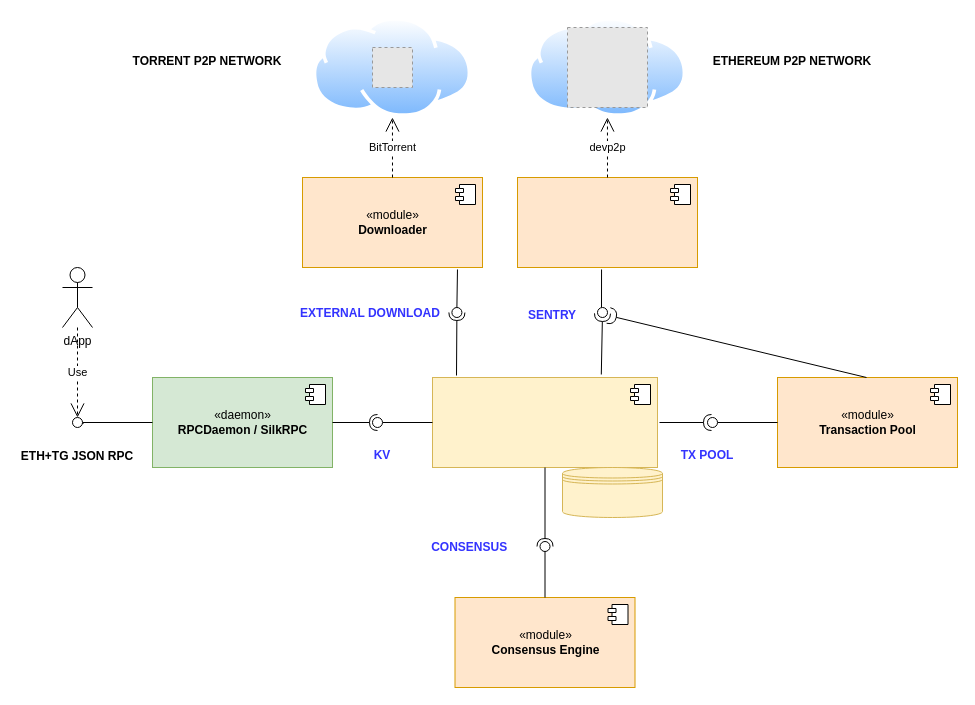
This 975x705 diagram has some shape labels left out. Grey dashed boxes stand in for pictures. Here are the shapes that lost their labels. From the top down, the centre of each, then its label:
At (607,222): "«module» Sentry".
At (545,422): "«core» TG / Silkworm".
At (612,492): "LMDB/MDBX".
